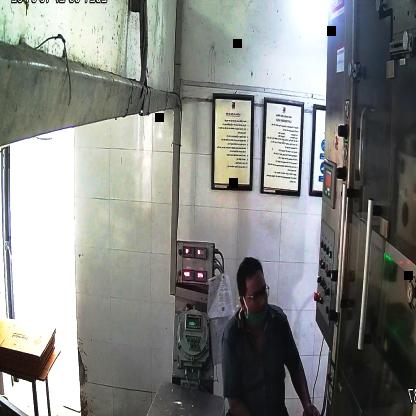goggles: (240, 278, 273, 310)
